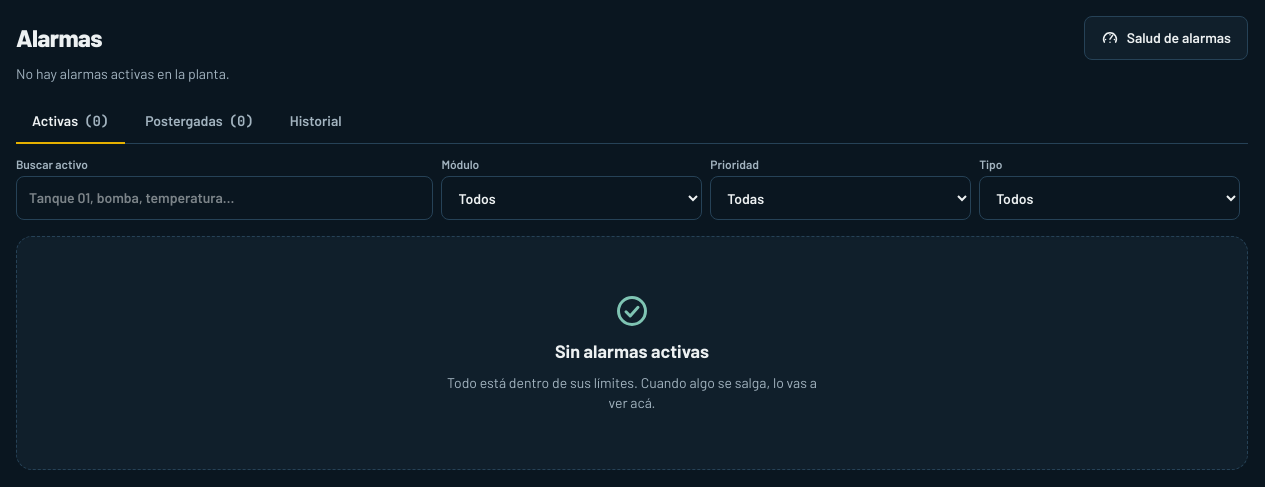
it: Lista de alarmas: contenido › estados vacíos con personalidad
expect the message with test id "alarms-empty" shows "Sin alarmas activas": met, box [555,340,709,362]
Click the tab with test id "tab-shelved" at (200, 122), box [129,100,270,144]
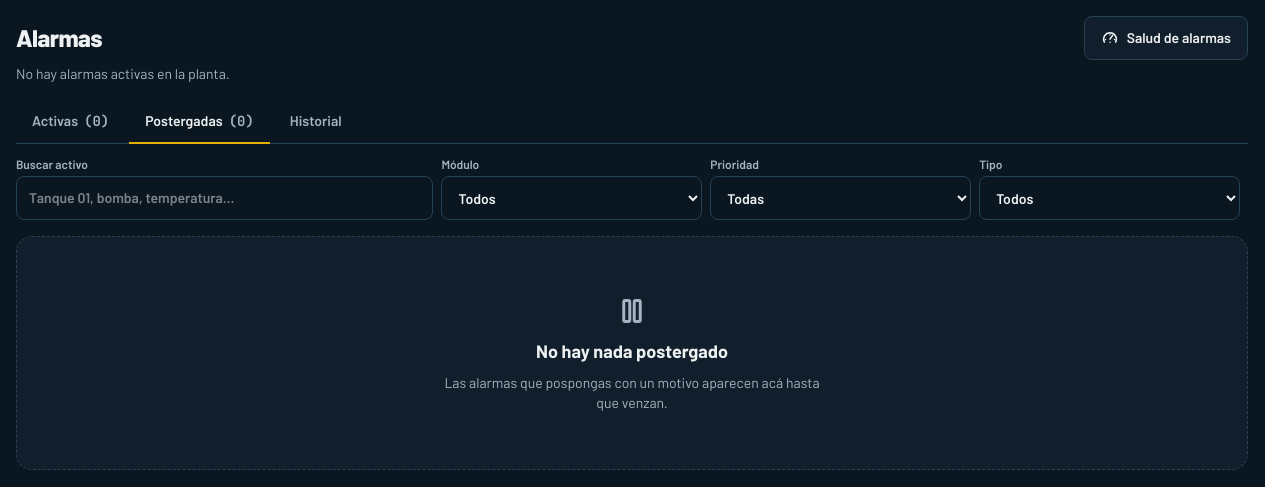
expect the message with test id "alarms-empty" shows "No hay nada postergado": met, box [536,340,728,362]
